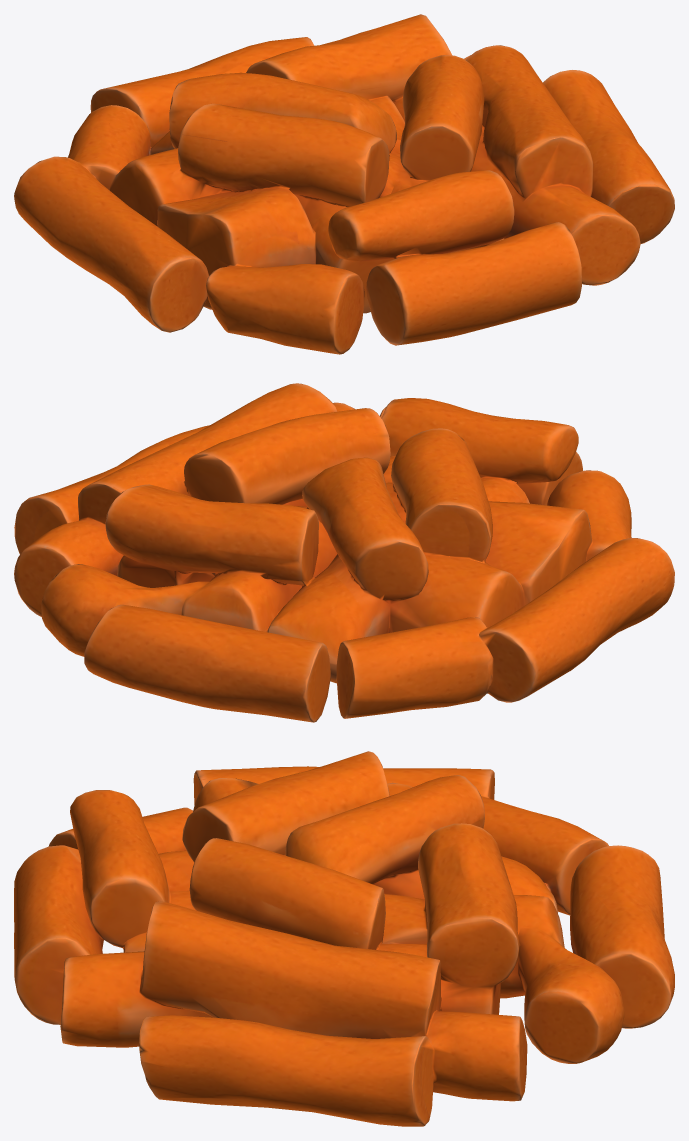
Rendered from Zanahoria_Cruda.fbx.
3 views of the same model, one above another, from view 1: azimuth 30°, elevation 25°; view 2: azimuth 150°, elevation 25°; view 3: azimuth 270°, elevation 25° (orthographic). The views are drawn at different scales.
Parts seen in each view (by area): view 1: Mesh_0; view 2: Mesh_0; view 3: Mesh_0.
Part boxes in pixels (bbox=[...]): Mesh_0: bbox=[14, 14, 674, 354]; Mesh_0: bbox=[14, 383, 674, 722]; Mesh_0: bbox=[14, 751, 674, 1126].
Bounding box in the file's own units: 187 × 48.29 × 175.
Materials: 1 (1 with a texture image).
